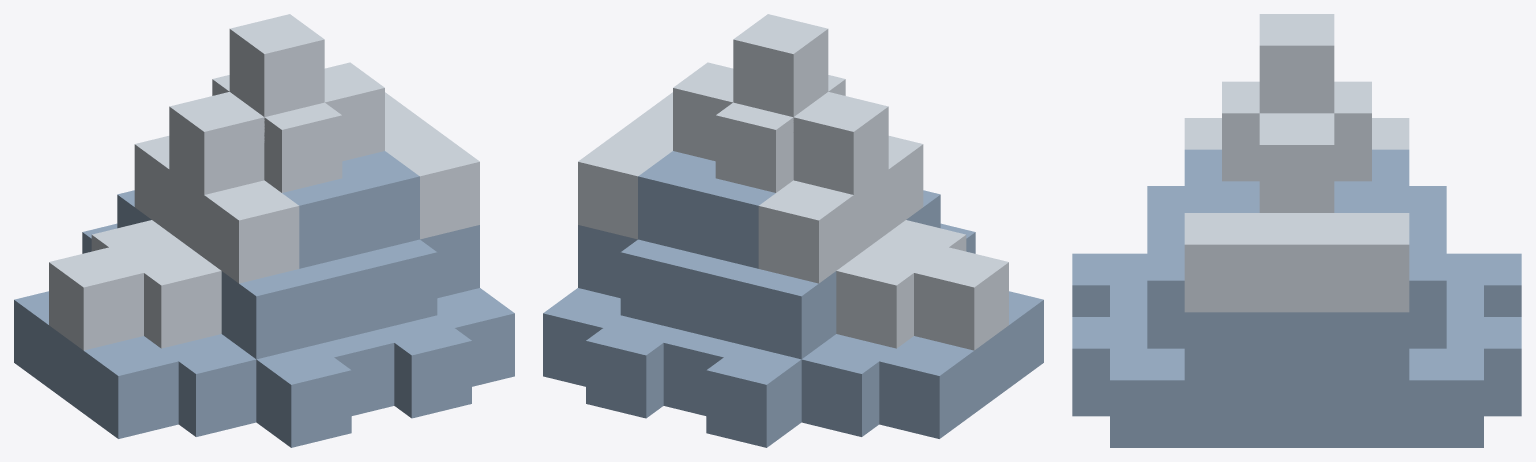
Rendered from stone-with-snow-02.glb.
3 renders of one model, left to right at view 1: azimuth 30°, elevation 25°; view 2: azimuth 150°, elevation 25°; view 3: azimuth 270°, elevation 25°, orthographic. The views are drawn at different scales.
Parts seen in each view (by area): view 1: generated(Clone); view 2: generated(Clone); view 3: generated(Clone).
Boxes of the visible parts, x1,y1,x2,y2 form: generated(Clone): [14, 14, 514, 447]; generated(Clone): [543, 14, 1043, 447]; generated(Clone): [1072, 14, 1521, 447].
Bounding box in the file's own units: 6 × 5 × 6.
Materials: 1 (1 with a texture image).
